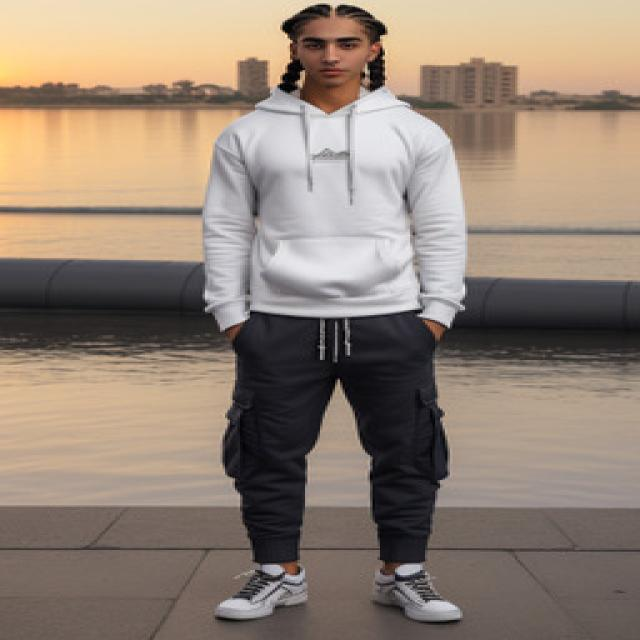Ai human 2: (182, 0, 503, 633)
